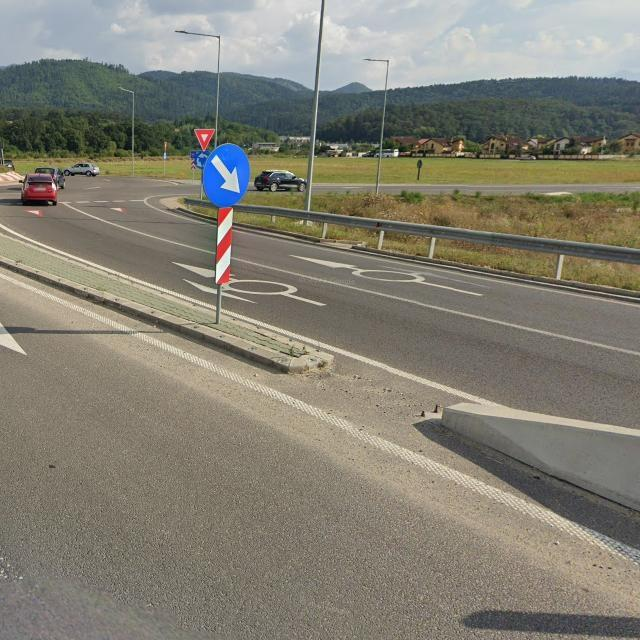prio_give_way: (194, 127, 214, 152)
